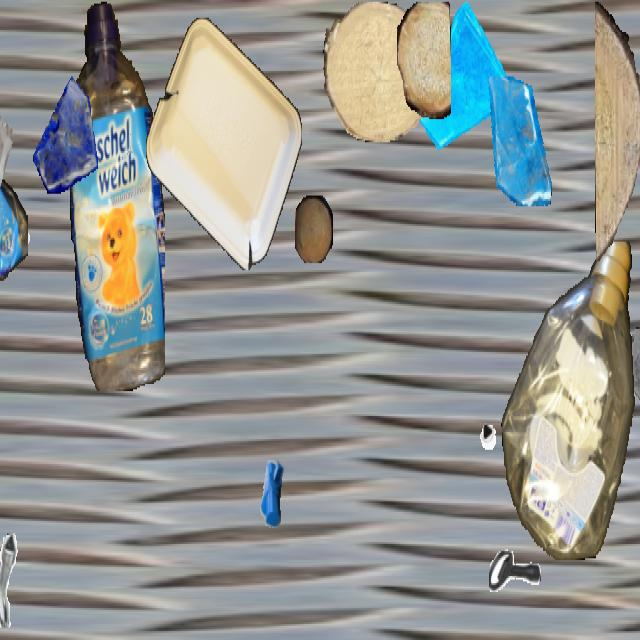glass: (420, 2, 510, 162), (482, 76, 554, 205), (32, 75, 98, 192), (0, 48, 13, 208), (629, 323, 640, 473), (637, 180, 640, 282)
metal: (93, 174, 153, 281), (443, 354, 501, 457), (242, 438, 300, 540), (489, 528, 541, 620), (0, 532, 46, 628), (0, 178, 34, 249)
plastic: (501, 242, 637, 558), (146, 18, 302, 270), (70, 2, 164, 389), (0, 137, 28, 297)
wood: (323, 2, 429, 140), (595, 2, 640, 261), (397, 2, 451, 119), (295, 196, 333, 263)
